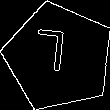L_S: (40, 30, 77, 83)
